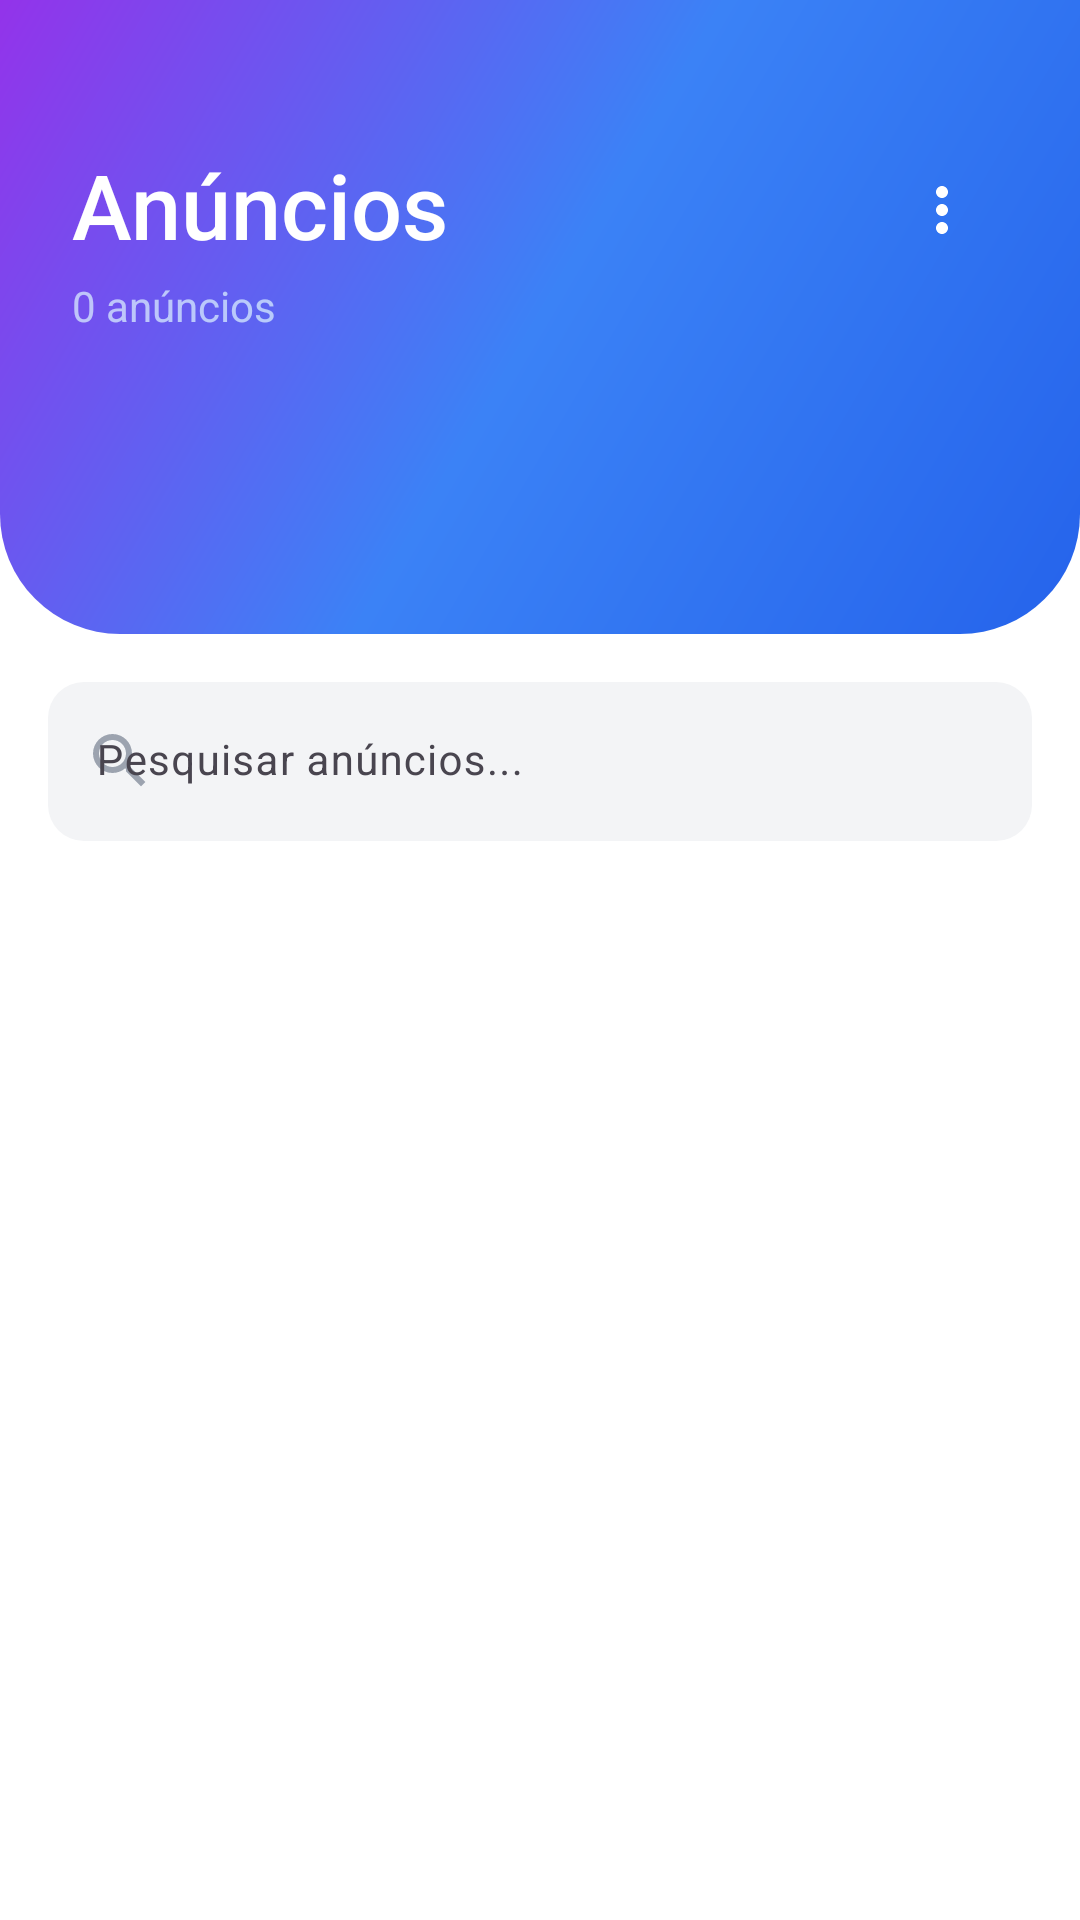

Icons on this 1080×1920 Android screen, each with its box as (x1, y1, x2, y2):
Menu: (936, 186, 948, 234)
